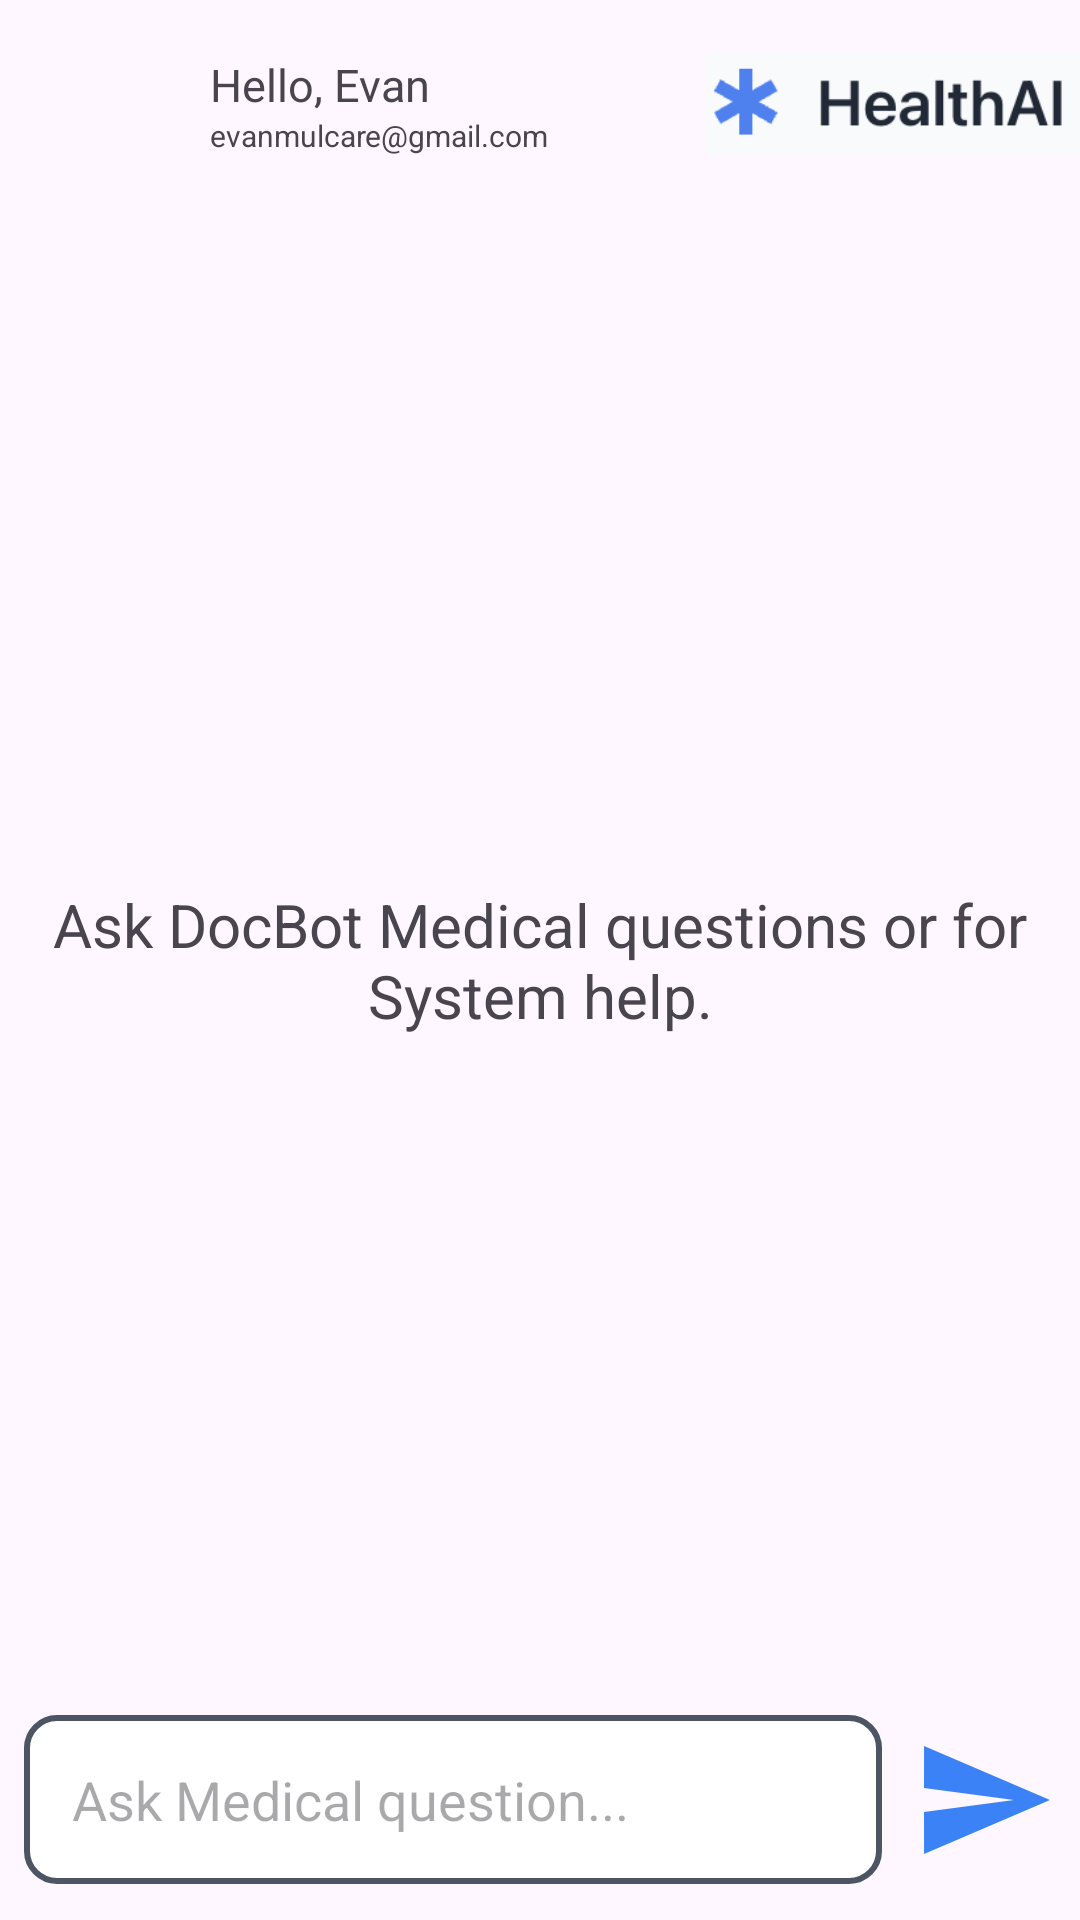

Where icons sit on this 1080px×1920px app screen, as (x1, y1, x2, y2):
send: (924, 1746, 1050, 1854)
